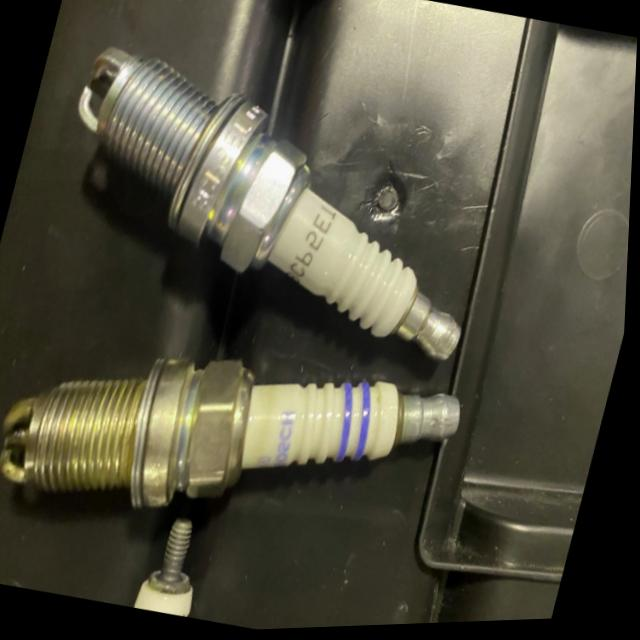spark-plug: (64, 19, 467, 369), (0, 367, 472, 513)
